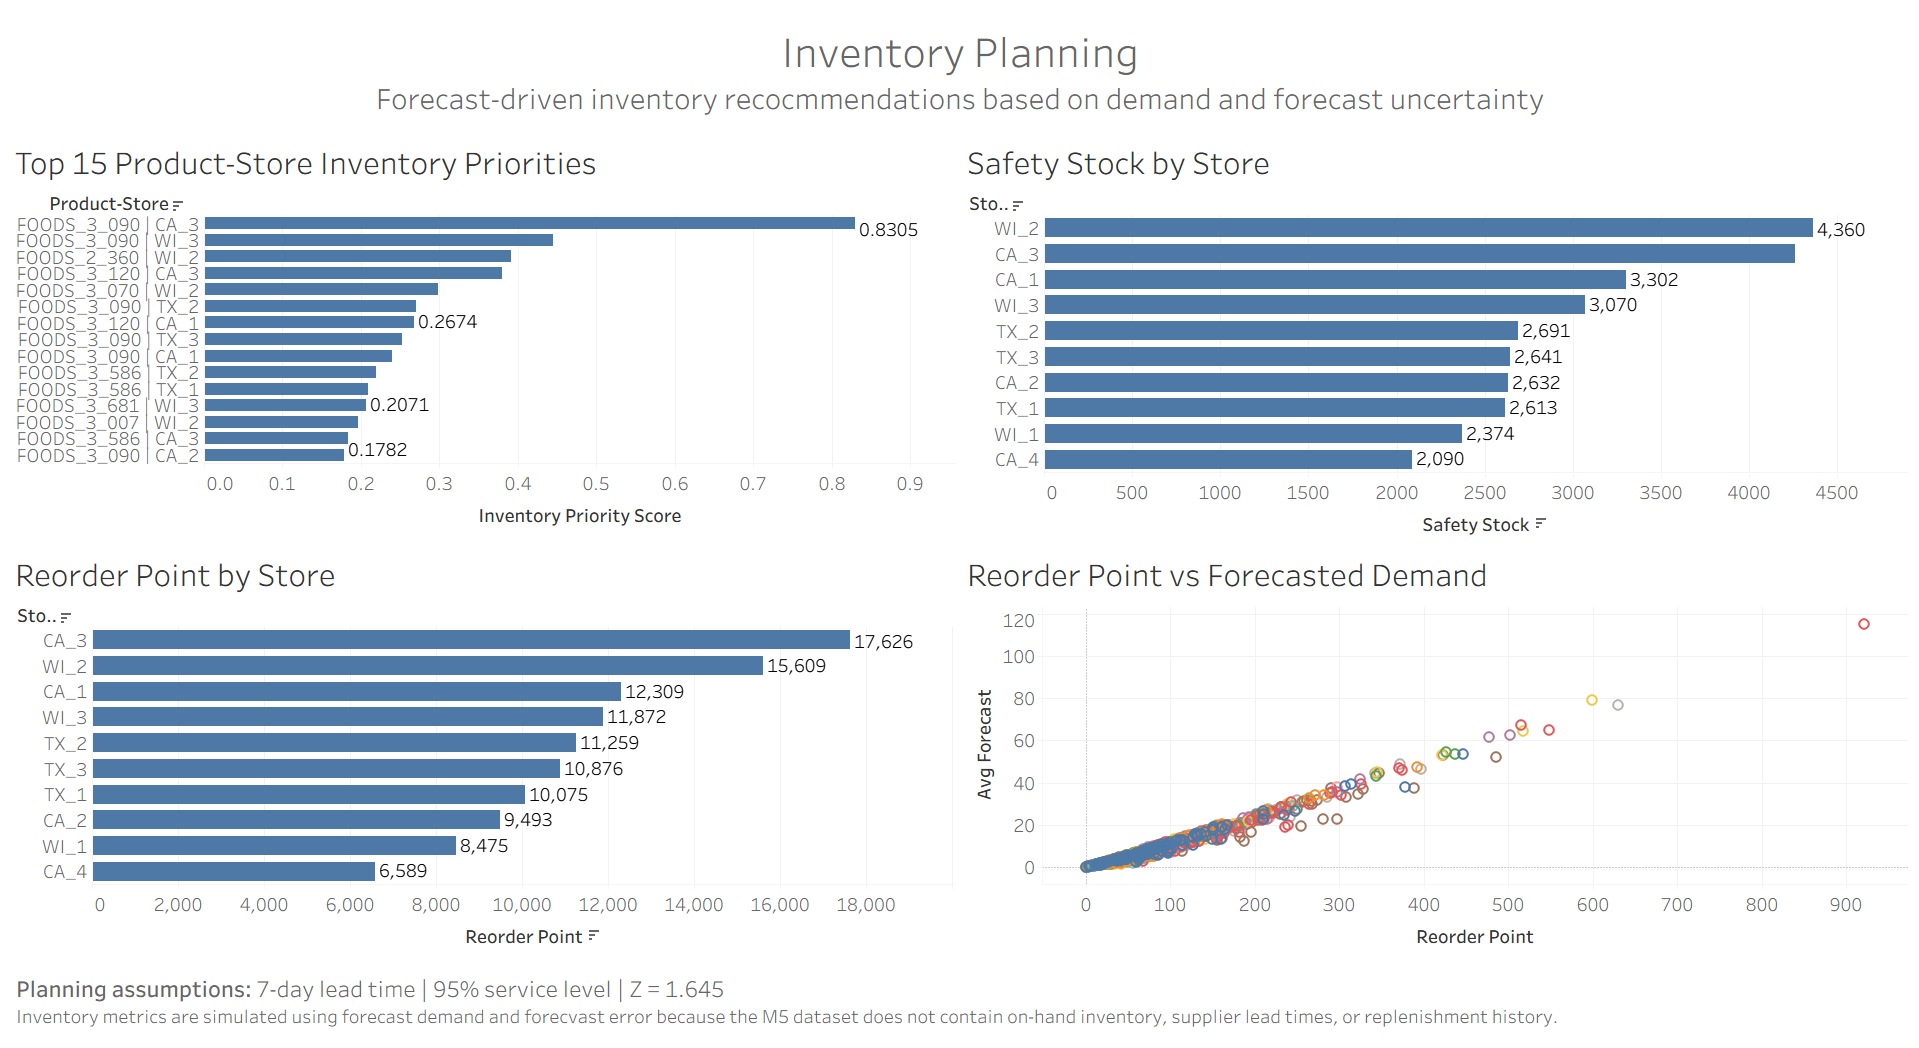

What the dashboard file says about the page in this screenshot:
{"tool":"tableau","page":{"name":"Inventory Planning","canvas":[1000,1000],"units":"permille","ordinal":1},"visuals":[{"type":"text","box":[3.6,6,992.9,120.2]},{"type":"worksheet","title":"Inventory Priority","mark":"Automatic","rows":["Calculation_0694106216730627"],"cols":["inventory_priority_score"],"box":[3.6,126.2,496.4,394.3]},{"type":"worksheet","title":"Safety Stock by Store","mark":"Automatic","rows":["store_id"],"cols":["safety_stock"],"box":[500,126.2,496.4,394.3]},{"type":"worksheet","title":"Reorder Point by Store","mark":"Automatic","rows":["store_id"],"cols":["reorder_point"],"box":[3.6,520.5,496.4,394.4]},{"type":"worksheet","title":"Reorder Point vs Forecasted Demand","mark":"Automatic","rows":["avg_forecast"],"cols":["reorder_point"],"box":[500,520.5,496.4,394.4]},{"type":"text","box":[3.6,914.9,992.9,79.1]}]}

Visuals, with their boxes on the dashboard's canvas, which has no fixed pixel size, in thousandths of its width and height (x1, y1, x2, y2). These are canvas units, not pixel positions in the 1919x1048 screenshot, which may show the page scaled, cropped or inside an application window:
text: (x1=4, y1=6, x2=996, y2=126)
"Inventory Priority" worksheet: (x1=4, y1=126, x2=500, y2=520)
"Safety Stock by Store" worksheet: (x1=500, y1=126, x2=996, y2=520)
"Reorder Point by Store" worksheet: (x1=4, y1=520, x2=500, y2=915)
"Reorder Point vs Forecasted Demand" worksheet: (x1=500, y1=520, x2=996, y2=915)
text: (x1=4, y1=915, x2=996, y2=994)
